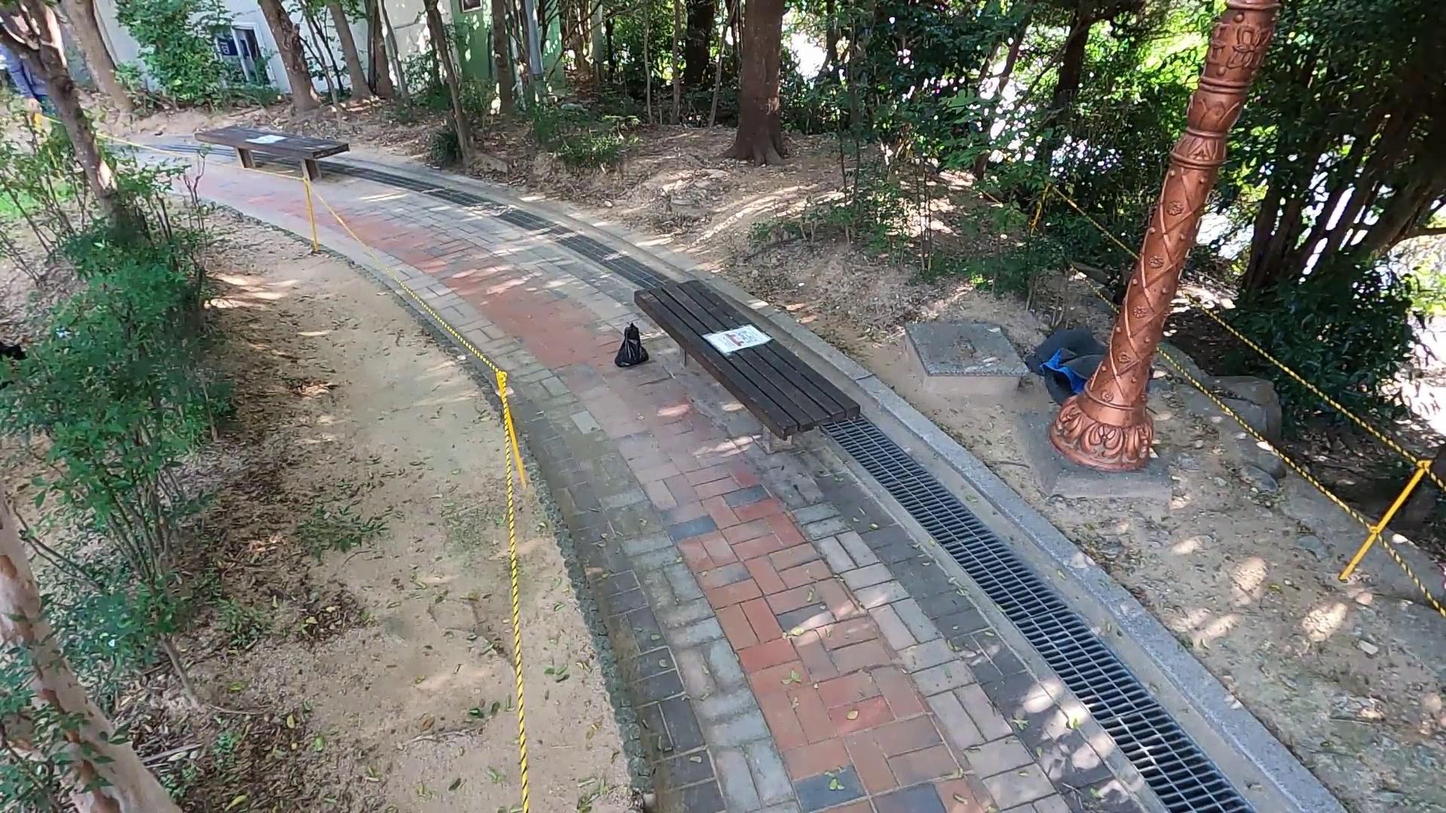trash: (1025, 324, 1107, 406), (614, 323, 651, 367)
